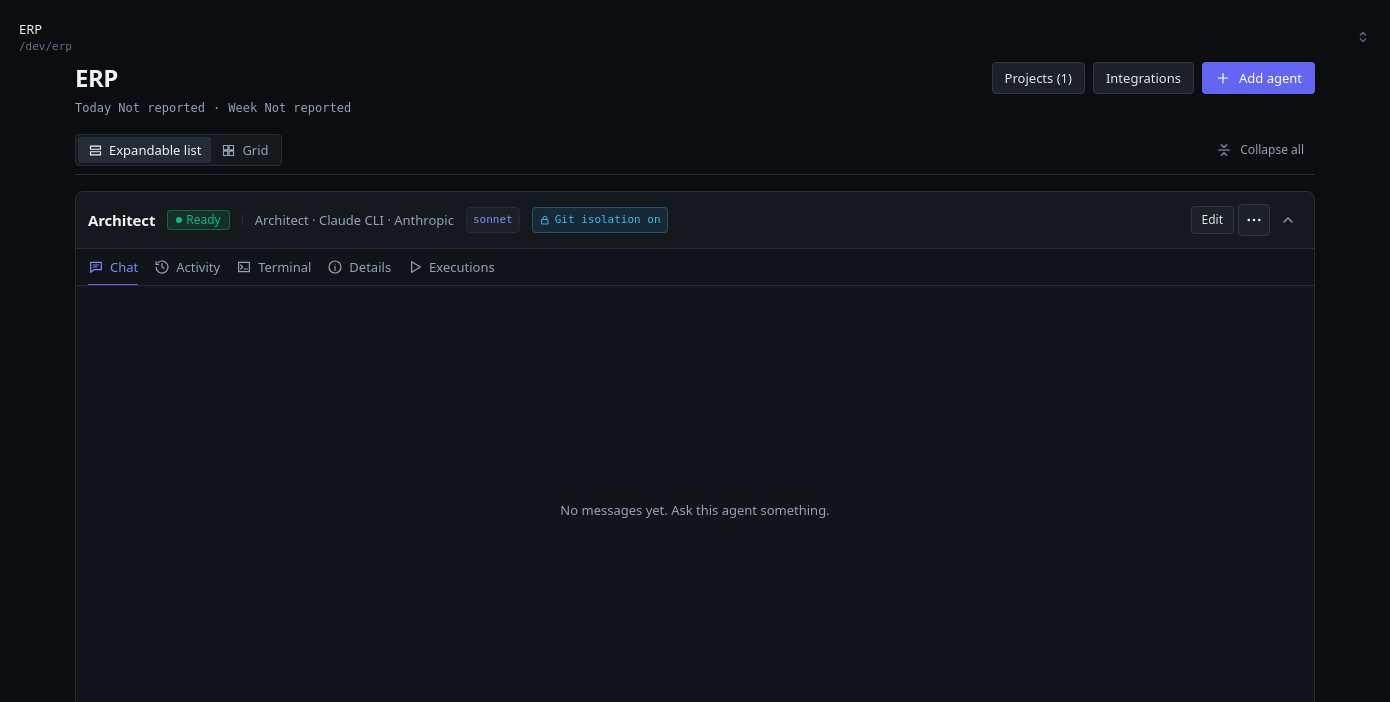
Workspace Harness status › flags a Harness that needs review
The image size is (1390, 702).
Click the button with aria-label "Manage the projects of ERP" at (1038, 78), box [992,62,1085,94]
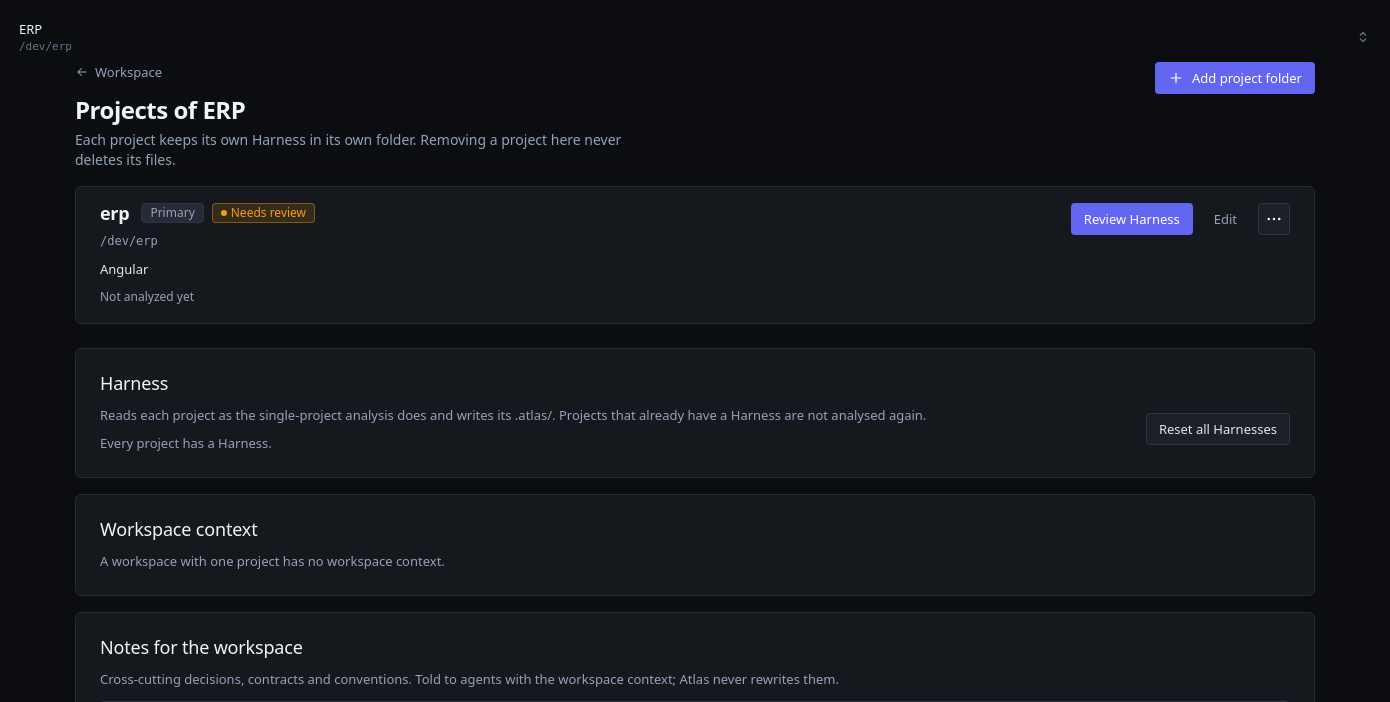
Expected: the button with aria-label "Review Harness of erp" reads "Review Harness", [1071,203,1193,235]
